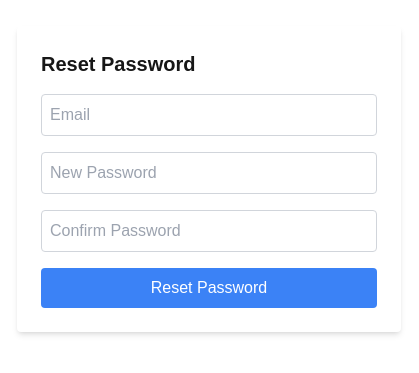
Test: ResetPassword Component › shows an error if passwords don't match
This screenshot has width=419, height=373.
In the field with placeholder "Email": (209,115) [41,94,377,136], type "test@example.com"
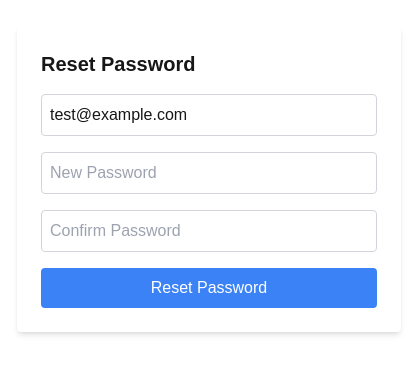
In the password field with placeholder "New Password": (209,173) [41,152,377,194], type "password123"
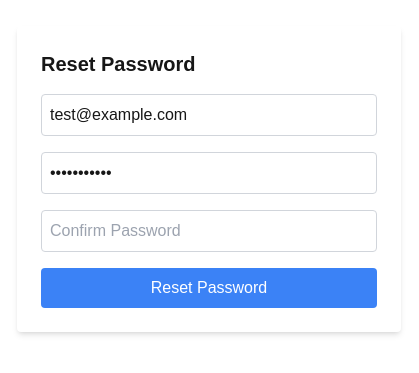
In the password field with placeholder "Confirm Password": (209,231) [41,210,377,252], type "password"
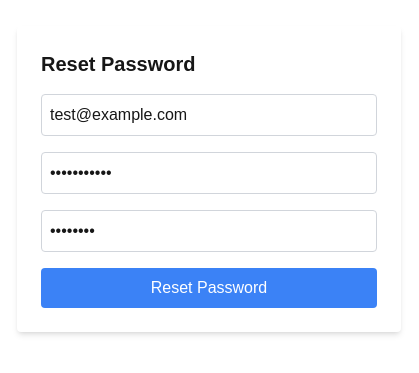
Click the button "Reset Password": (209,288) [41,268,377,308]
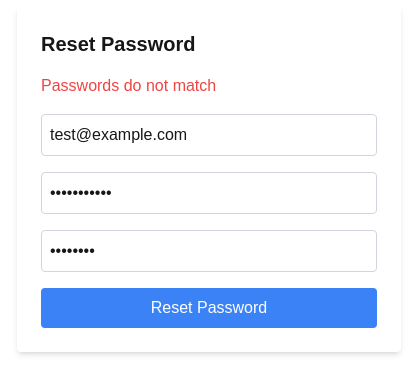
Check: the text "Passwords do not match" is shown, box [41,77,216,94]
